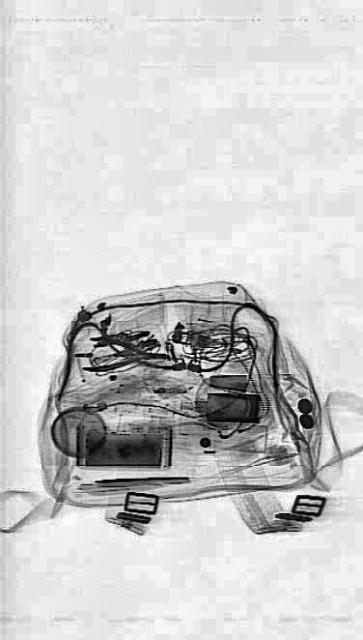Pliers: (81, 336, 169, 370)
